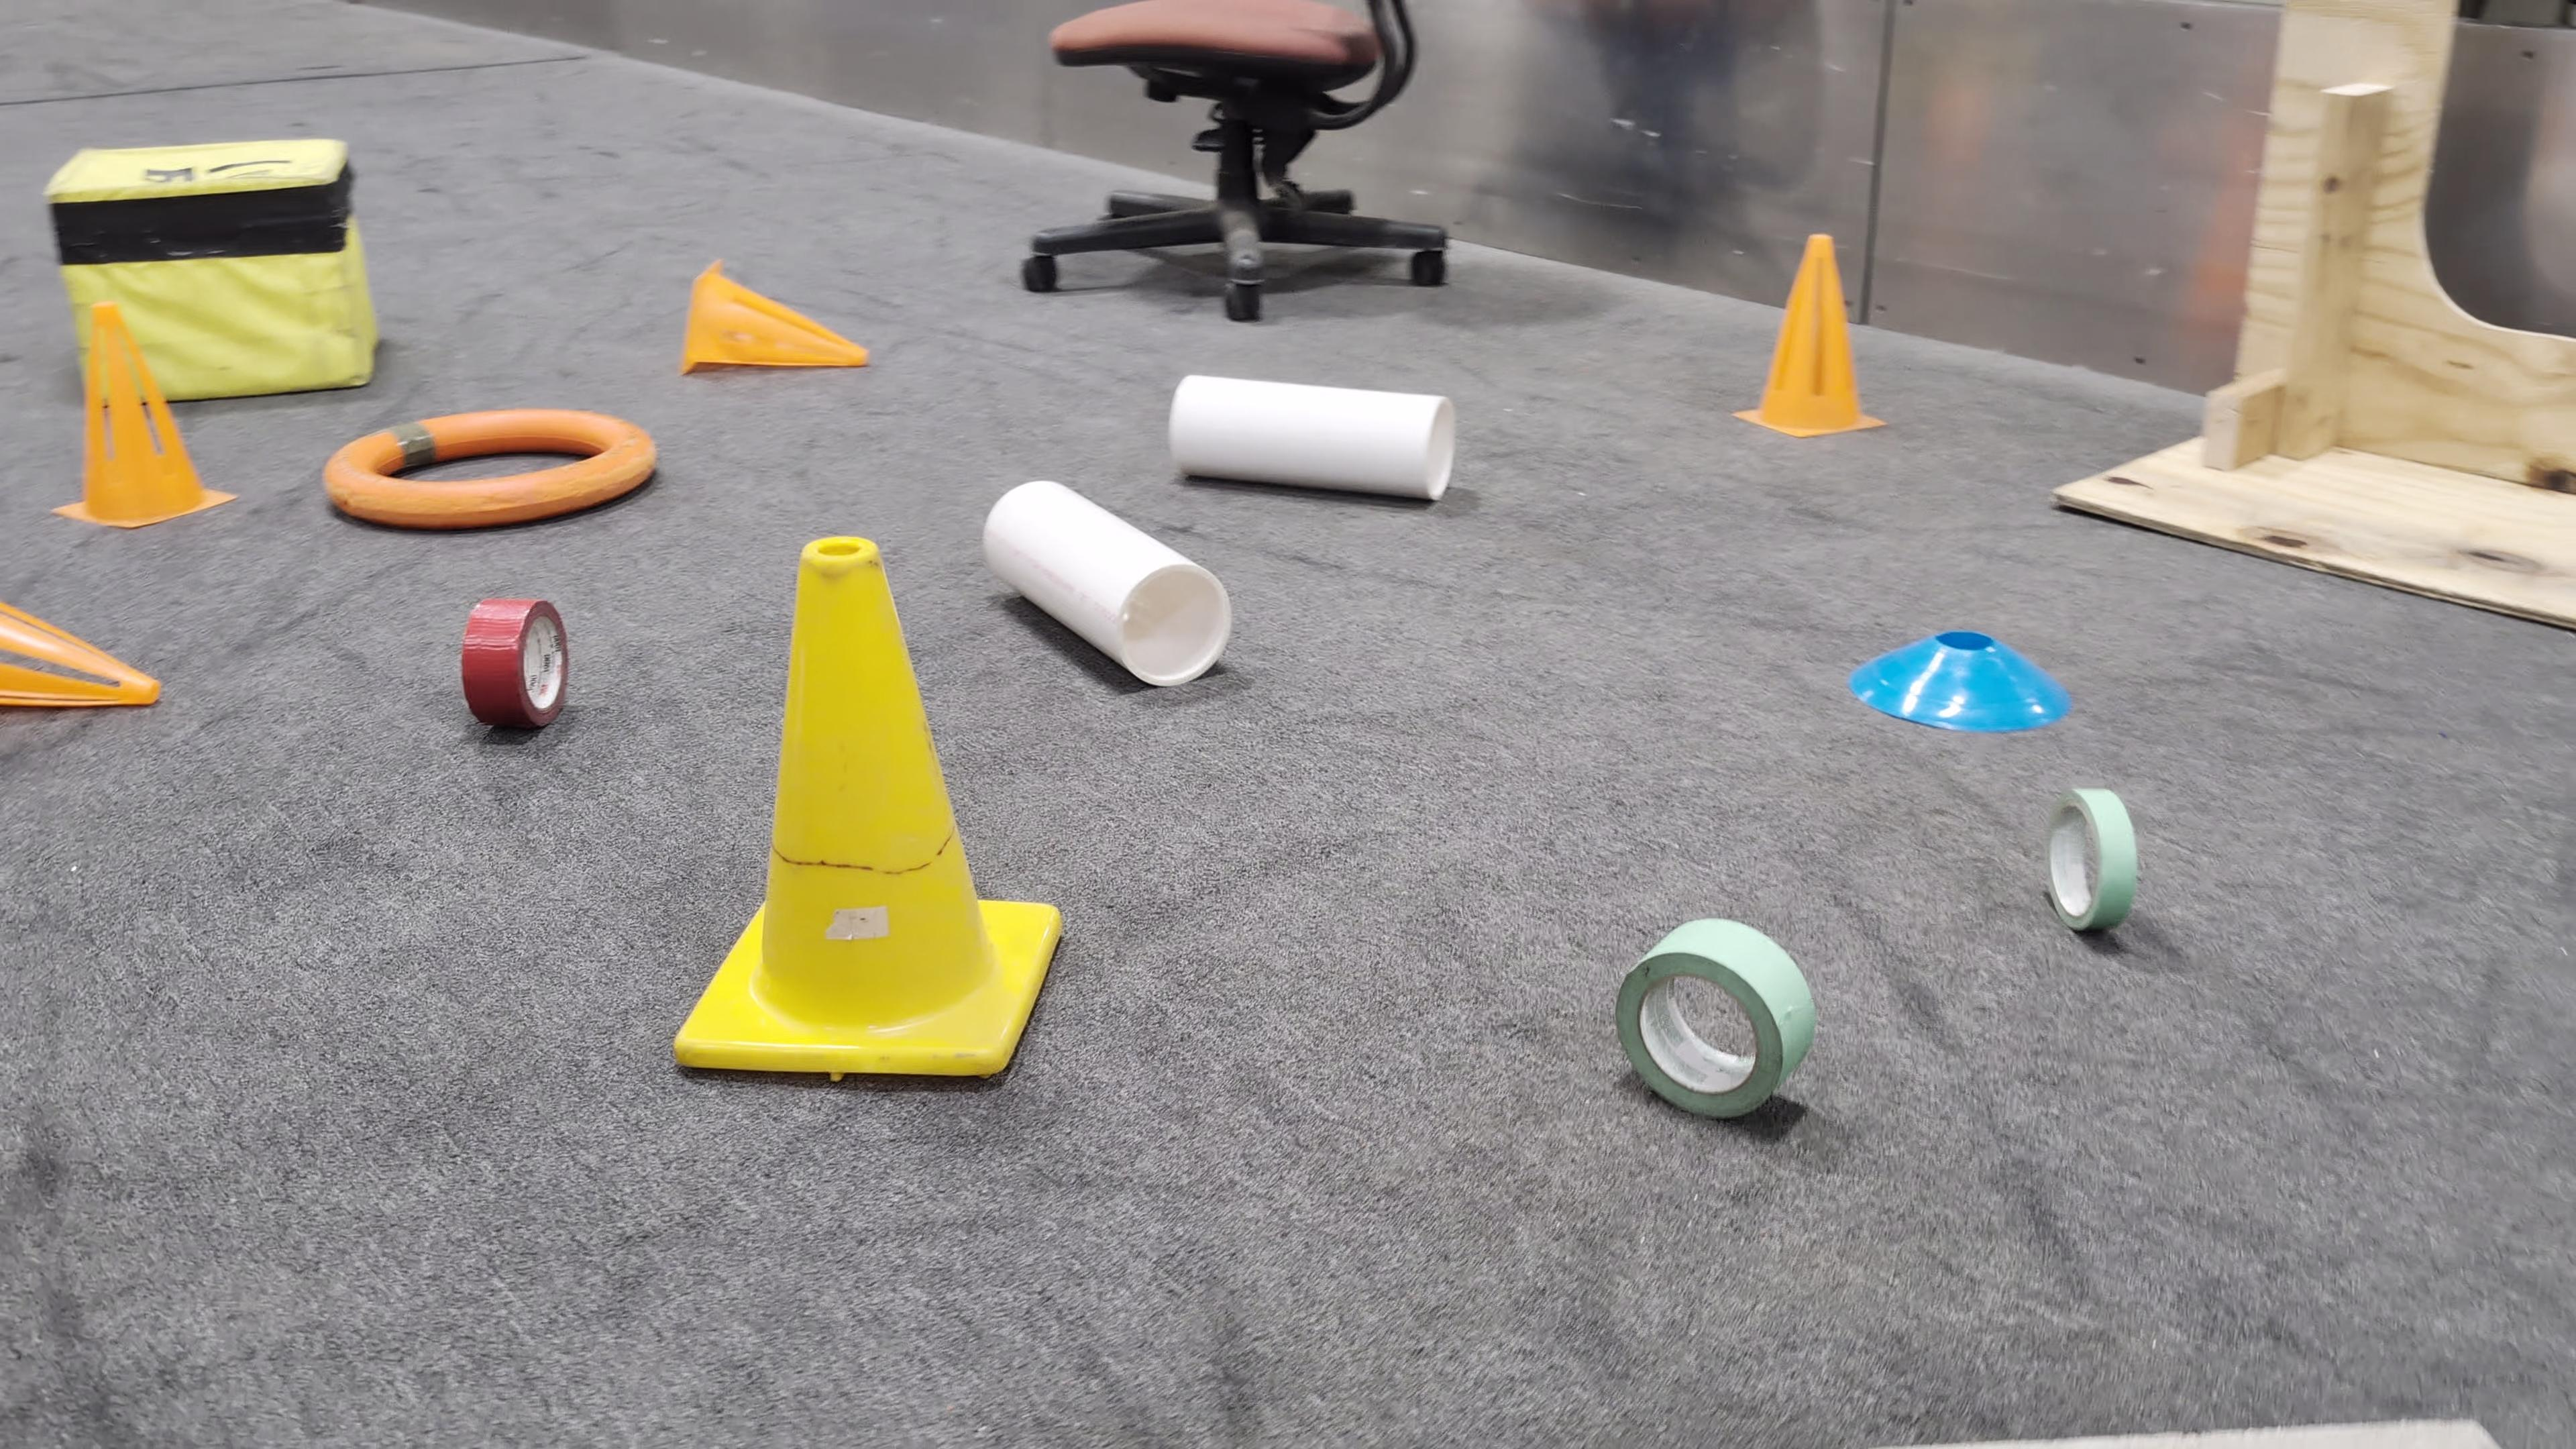coral: (980, 474, 1233, 686), (1162, 370, 1454, 501)
